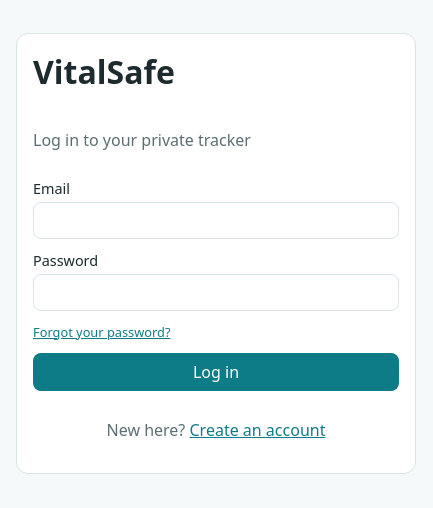
Test case: AuthPage in login mode › shows the server's error when login fails
The image size is (433, 508).
Type "me@example.com" into the field labelled "Email" at (216, 220), box [33,202,399,238]
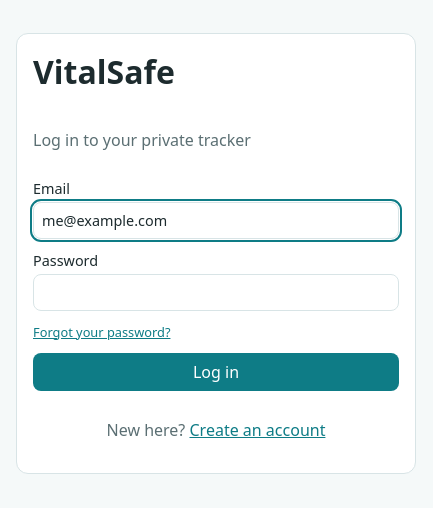
Type "WrongPassw0rd12" into the password field labelled "Password" at (216, 292), box [33,274,399,310]
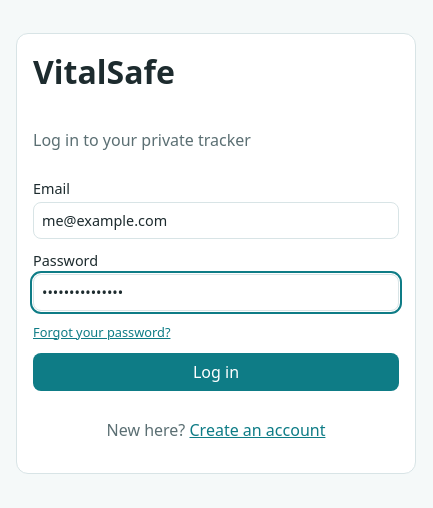
Click the button "Log in" at (216, 372), box [33,352,399,390]
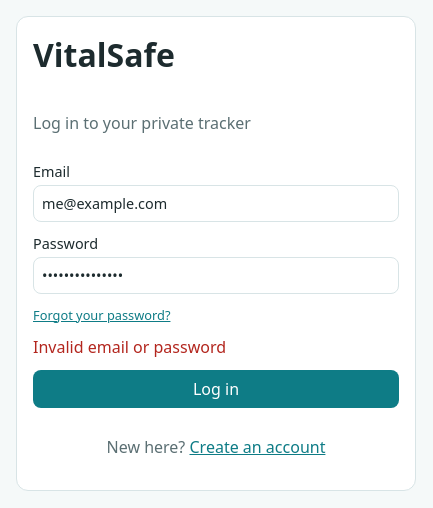
Result: the message reads "Invalid email or password" at [33,336,226,358]
